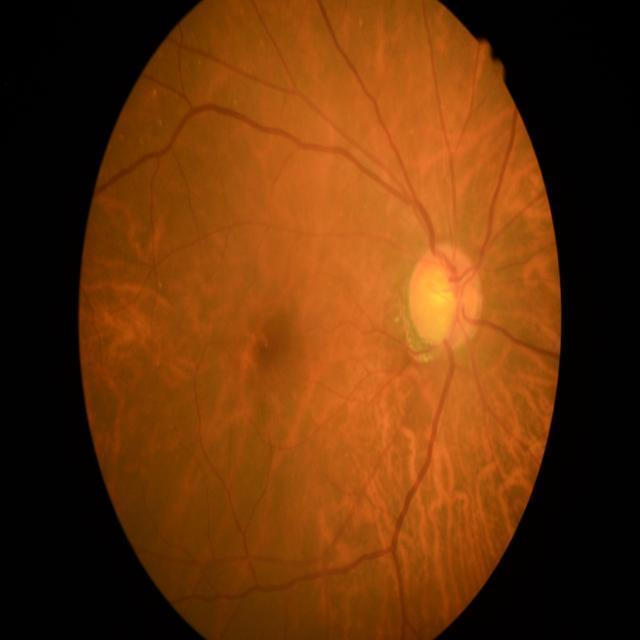cup: (416, 256, 465, 338)
disk: (408, 242, 482, 348)
